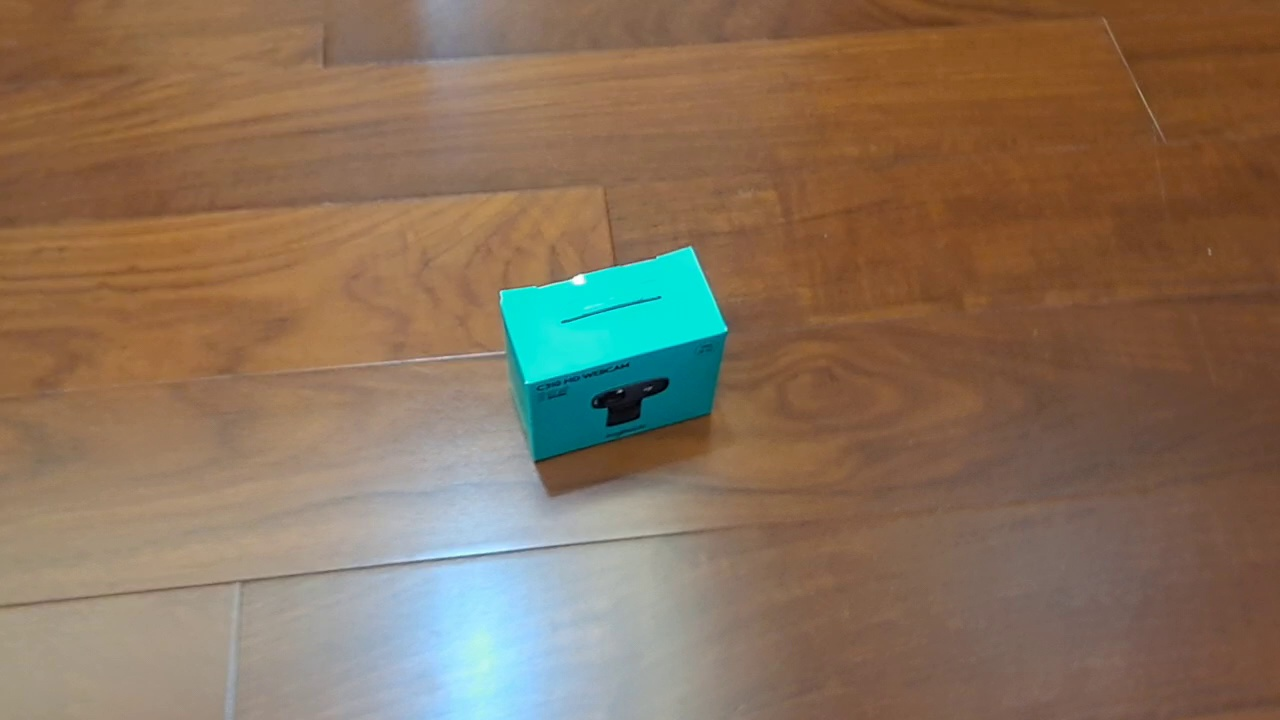webcam: (497, 244, 729, 464)
